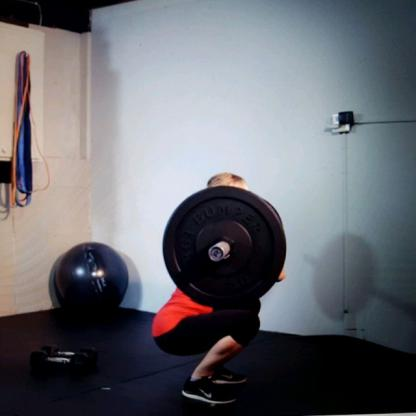Barbell: (157, 181, 288, 310)
